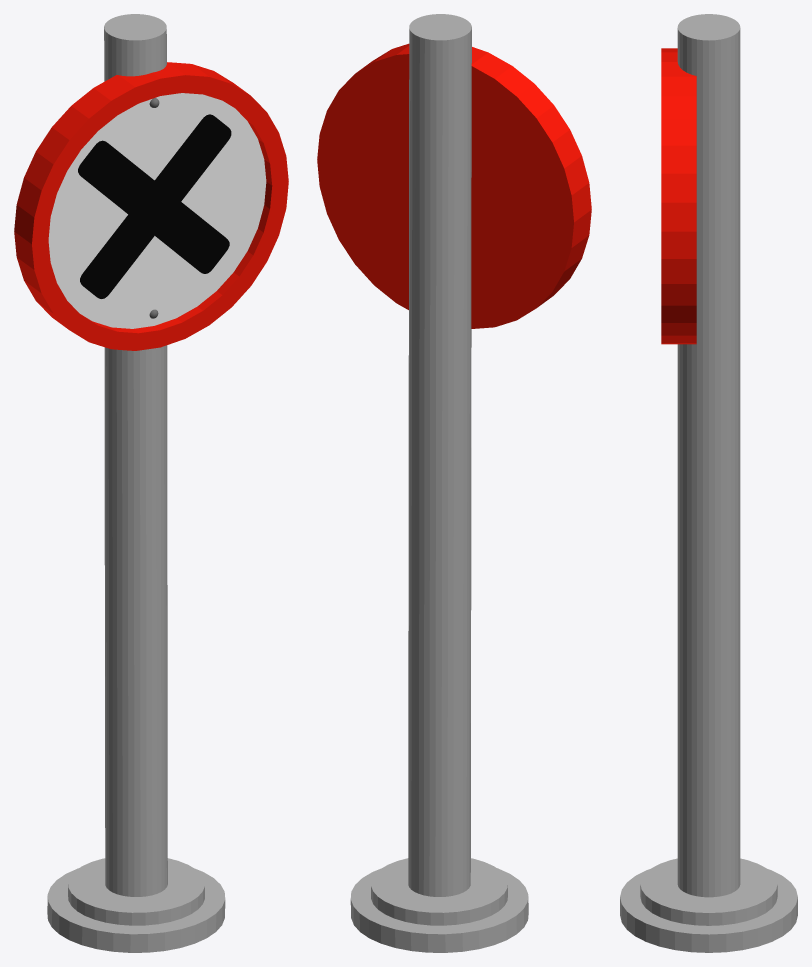
3 renders of one model, left to right at view 1: azimuth 30°, elevation 25°; view 2: azimuth 150°, elevation 25°; view 3: azimuth 270°, elevation 25°, orthographic.
Parts seen in each view (by area): view 1: cotbien.001; view 2: cotbien.001; view 3: cotbien.001.
Boxes of the visible parts, x1,y1,x2,y2 form: cotbien.001: [14, 14, 288, 952]; cotbien.001: [317, 14, 591, 952]; cotbien.001: [620, 14, 797, 952].
Size of the model in its own units: 1.7 by 5.62 by 1.02.
